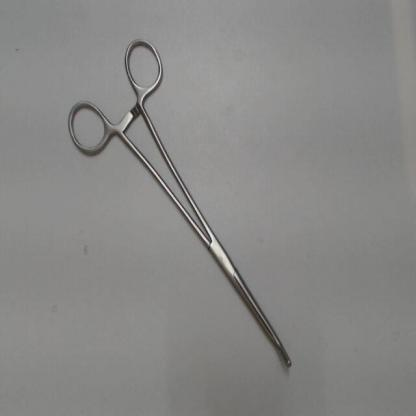Lahey Forceps: (60, 27, 302, 380)
